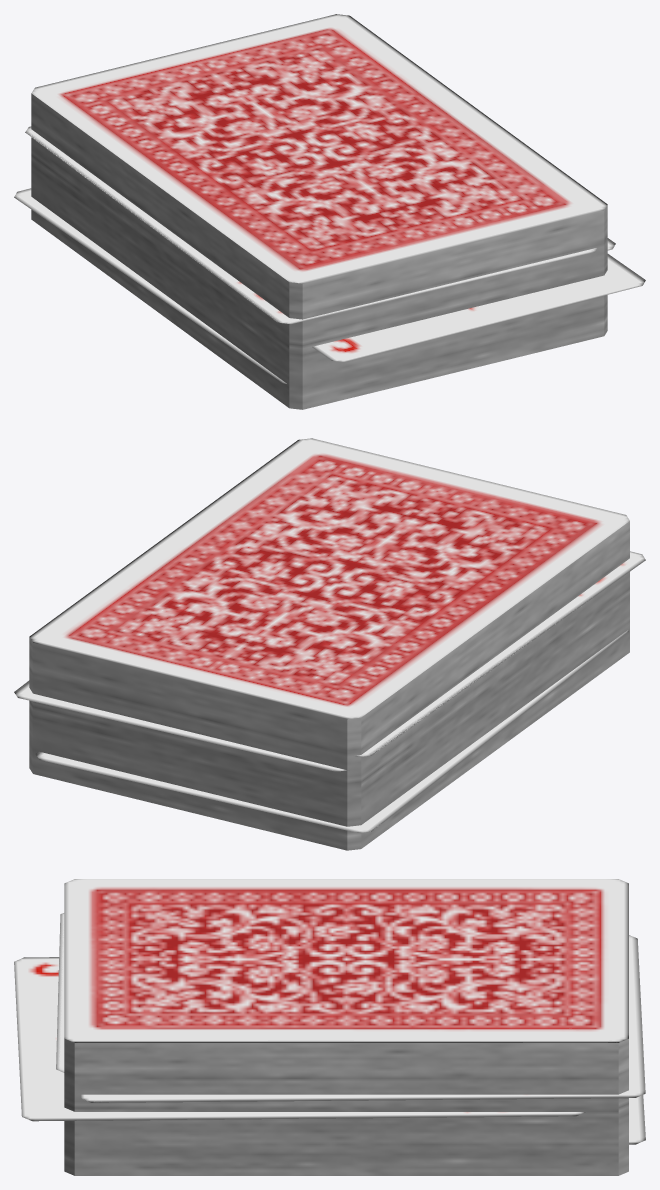
The model's file is Deck.fbx.
3 renders of one model, top to bottom at view 1: azimuth 30°, elevation 25°; view 2: azimuth 150°, elevation 25°; view 3: azimuth 270°, elevation 25°, orthographic. The views are drawn at different scales.
Parts seen in each view (by area): view 1: Card_Pack; view 2: Card_Pack; view 3: Card_Pack.
Part boxes in pixels (box(x1,y1,x2,y2)): Card_Pack: box(14, 14, 645, 409); Card_Pack: box(14, 438, 645, 850); Card_Pack: box(14, 879, 645, 1175).
Size of the model in its own units: 9.41 by 13.94 by 3.24.
